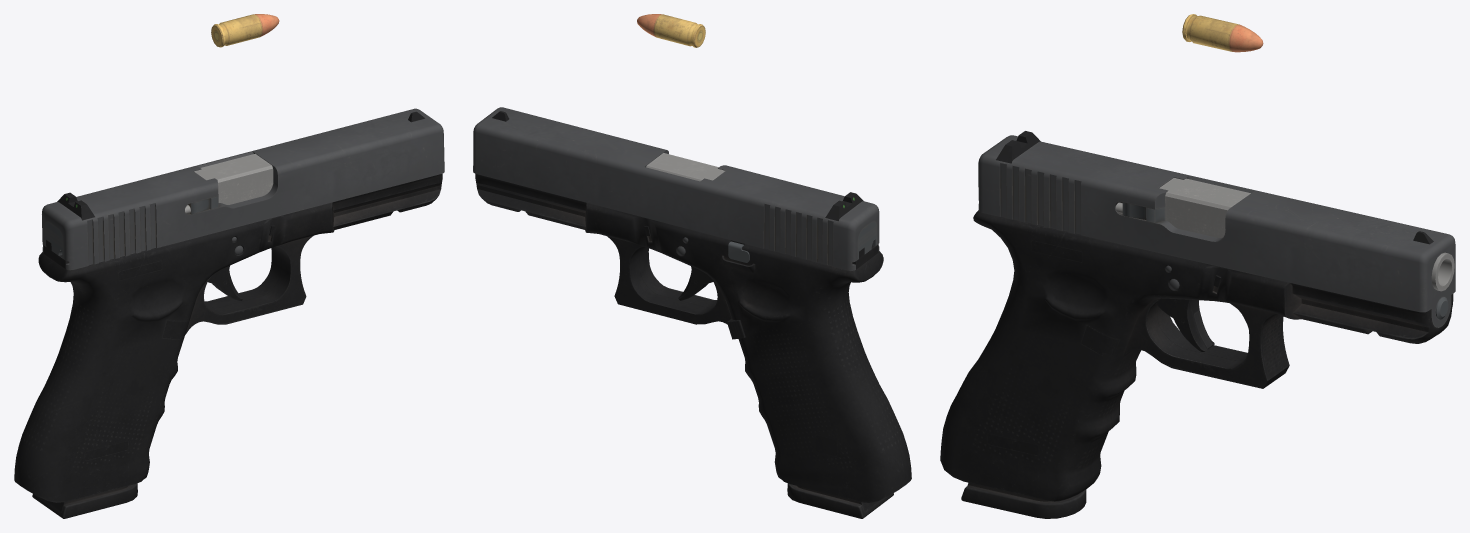
3 renders of one model, left to right at view 1: azimuth 30°, elevation 25°; view 2: azimuth 150°, elevation 25°; view 3: azimuth 330°, elevation 25°, orthographic. The views are drawn at different scales.
Parts seen in each view (by area): view 1: Gun, Slide, Barrel, Mag, Casing, Trigger; view 2: Gun, Slide, Mag, Barrel, Casing, Trigger; view 3: Gun, Slide, Barrel, Mag, Casing, Trigger, BulletTip, MagRelease.
Part boxes in pixels (x1,y1,x2,y2): Gun: (14, 173, 442, 502); Slide: (42, 108, 444, 270); Barrel: (194, 153, 273, 204); Mag: (32, 483, 137, 518); Casing: (211, 14, 262, 47); Trigger: (208, 236, 242, 300); Gun: (475, 174, 911, 502); Slide: (473, 107, 879, 270); Mag: (787, 483, 893, 518); Barrel: (646, 153, 725, 181); Casing: (654, 14, 705, 47); Trigger: (678, 237, 712, 300); Gun: (940, 210, 1453, 501); Slide: (978, 131, 1455, 327); Barrel: (1159, 178, 1454, 291); Mag: (961, 482, 1086, 518); Casing: (1182, 14, 1239, 51); Trigger: (1156, 298, 1214, 351); BulletTip: (1229, 24, 1263, 52); MagRelease: (1080, 325, 1118, 355).
Bounding box in the file's own units: 0.1997 × 0.2008 × 0.0293.
1 material, 1 textured.
